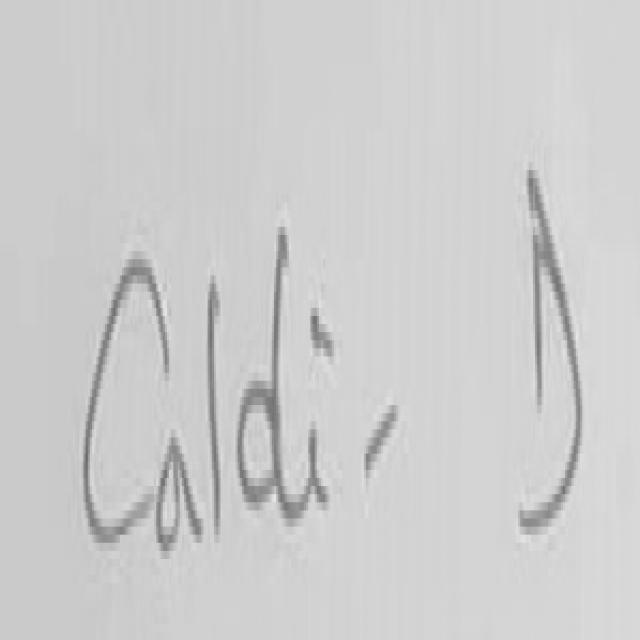C: (83, 259, 168, 539)
D: (522, 170, 584, 531)
a: (156, 437, 203, 547)
d: (238, 227, 302, 514)
i: (296, 421, 336, 527), (313, 320, 334, 352)
l: (208, 275, 220, 531)
